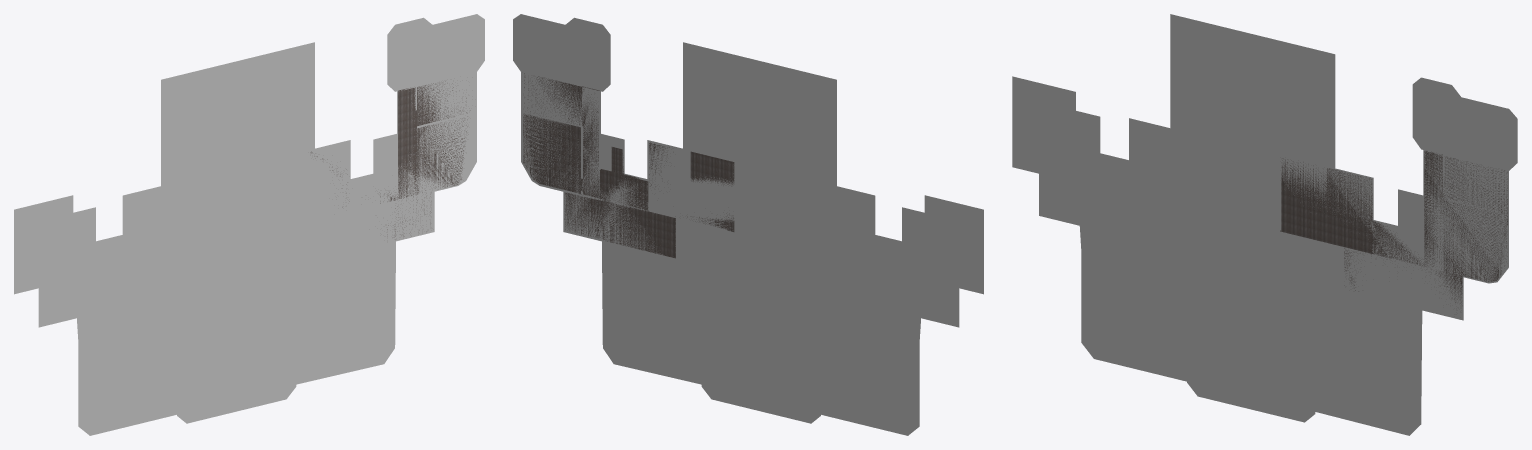
File: facility1.FBX
3 views of the same model, side by side, from view 1: azimuth 30°, elevation 25°; view 2: azimuth 150°, elevation 25°; view 3: azimuth 330°, elevation 25° (orthographic). The views are drawn at different scales.
Visible parts, largest first — view 1: facility1_weather_mask, facility1_conservatory_roof_glass, facility1_walls, facility1_west_bedroom1_floor, facility1_f_hall_floor, facility1_west_bathroom_floor; view 2: facility1_weather_mask, facility1_conservatory_roof_glass, facility1_west_storage_floor, facility1_walls, facility1_west_bedroom1_floor, facility1_f_hall_floor, facility1_west_class_floor, facility1_west_bathroom_floor; view 3: facility1_weather_mask, facility1_conservatory_roof_glass, facility1_west_class_floor, facility1_walls, facility1_west_bedroom1_floor, facility1_f_hall_floor, facility1_west_bathroom_floor, facility1_west_storage_floor.
Part boxes in pixels (x1,y1,x2,y2): facility1_weather_mask: (16,42,476,435); facility1_conservatory_roof_glass: (388,15,483,90); facility1_walls: (14,52,476,433); facility1_west_bedroom1_floor: (416,116,468,194); facility1_f_hall_floor: (379,87,415,203); facility1_west_bathroom_floor: (416,81,470,127); facility1_weather_mask: (521,45,983,433); facility1_conservatory_roof_glass: (514,15,609,90); facility1_west_storage_floor: (564,192,675,258); facility1_walls: (521,42,983,435); facility1_west_bedroom1_floor: (523,113,581,194); facility1_f_hall_floor: (582,86,648,210); facility1_west_class_floor: (649,142,734,231); facility1_west_bathroom_floor: (524,73,581,125); facility1_weather_mask: (1014,17,1508,435); facility1_conservatory_roof_glass: (1413,78,1516,169); facility1_west_class_floor: (1280,158,1372,253); facility1_walls: (1012,14,1508,434); facility1_west_bedroom1_floor: (1443,199,1507,281); facility1_f_hall_floor: (1372,151,1443,269); facility1_west_bathroom_floor: (1443,156,1507,213); facility1_west_storage_floor: (1344,248,1462,305).
Bounding box in the file's own units: 4770 × 3390 × 0.000547.
1 material, 1 textured.
